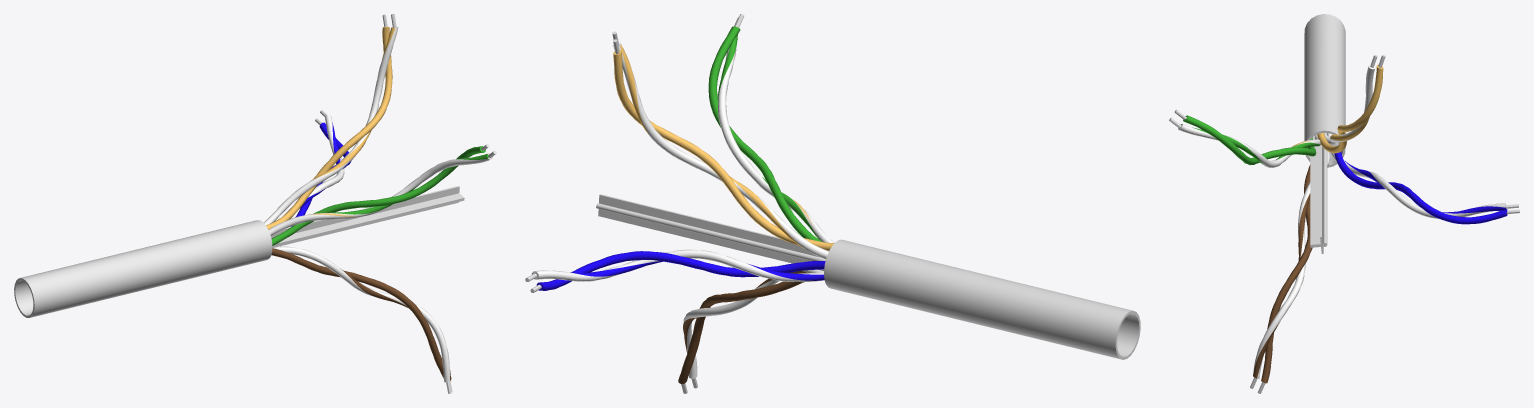
The model's file is Cut-Wire.fbx.
The picture shows the model from 3 angles, left to right: view 1: azimuth 30°, elevation 25°; view 2: azimuth 150°, elevation 25°; view 3: azimuth 270°, elevation 25°; orthographic projection. The views are drawn at different scales.
Parts seen in each view (by area): view 1: pCylinder4; view 2: pCylinder4; view 3: pCylinder4.
Boxes of the visible parts, bbox=[...] form: pCylinder4: bbox=[14, 14, 496, 393]; pCylinder4: bbox=[525, 14, 1140, 393]; pCylinder4: bbox=[1169, 14, 1519, 393].
Bounding box in the file's own units: 0.7482 × 0.5561 × 0.5226.
